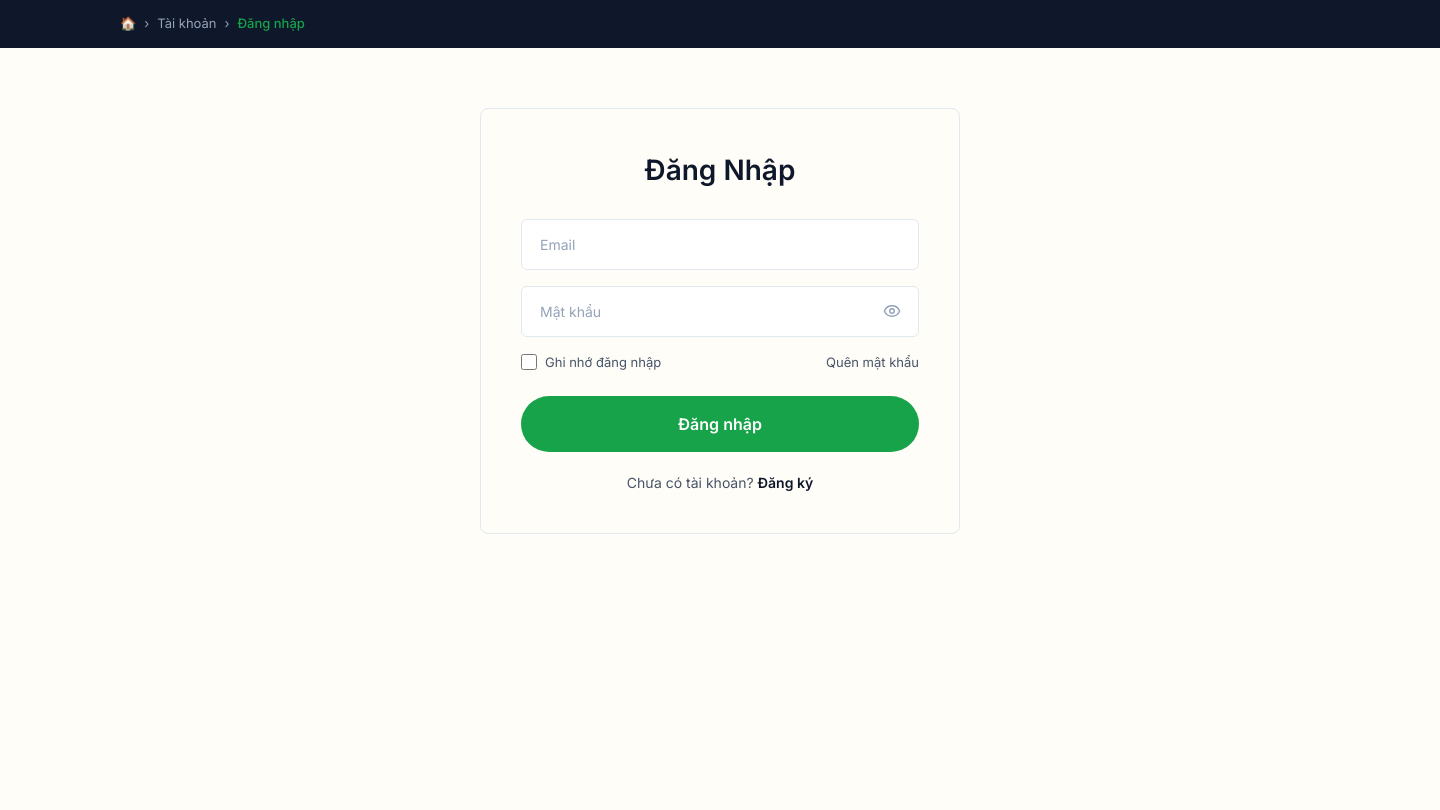
Login - error state (isError) › falls back to "Login failed" when the error has no message
This screenshot has width=1440, height=810.
Type "a@b.com" into the field with placeholder "Email" at (720, 244), box [521, 218, 919, 270]
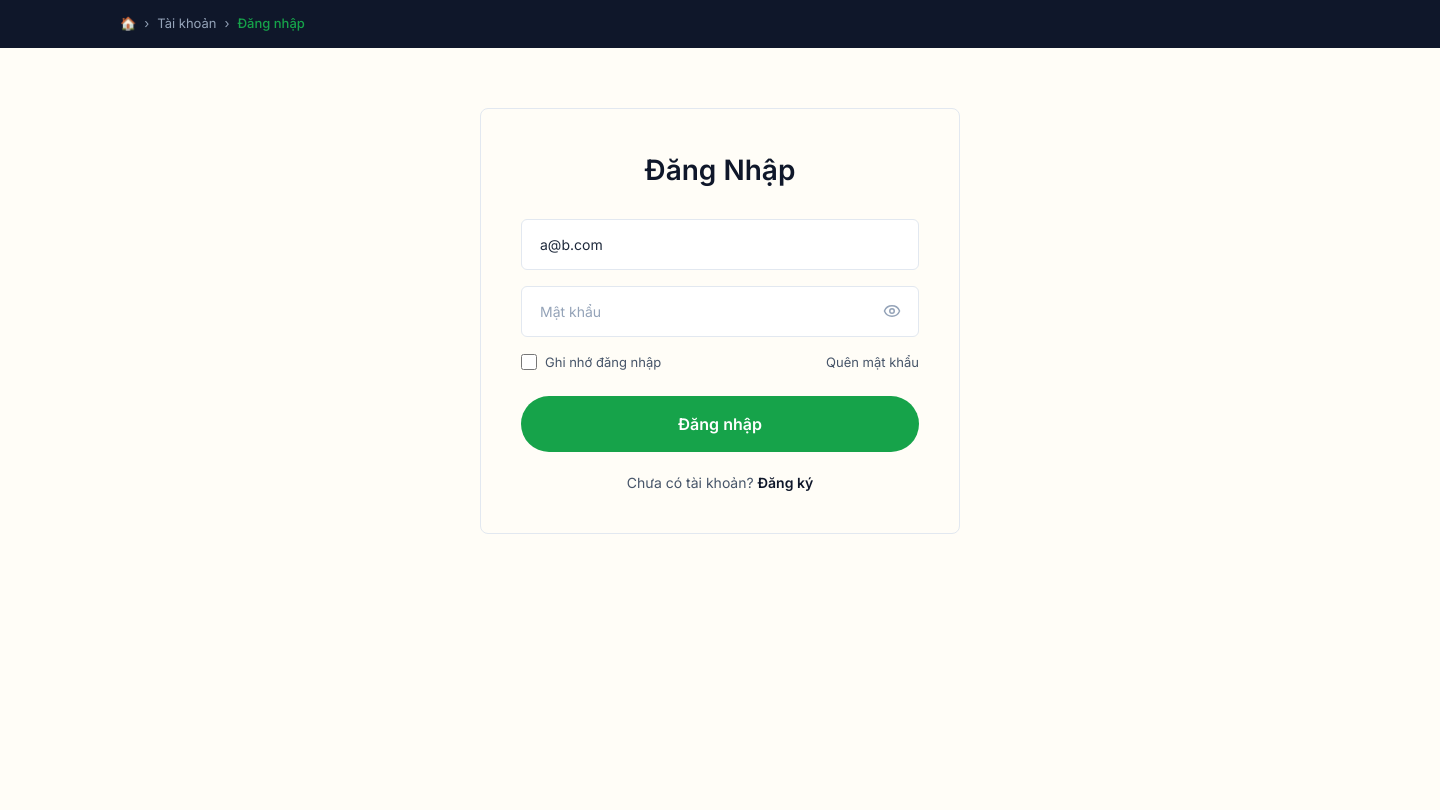
Type "pw" into the password field with placeholder "Mật khẩu" at (720, 311), box [521, 286, 919, 336]
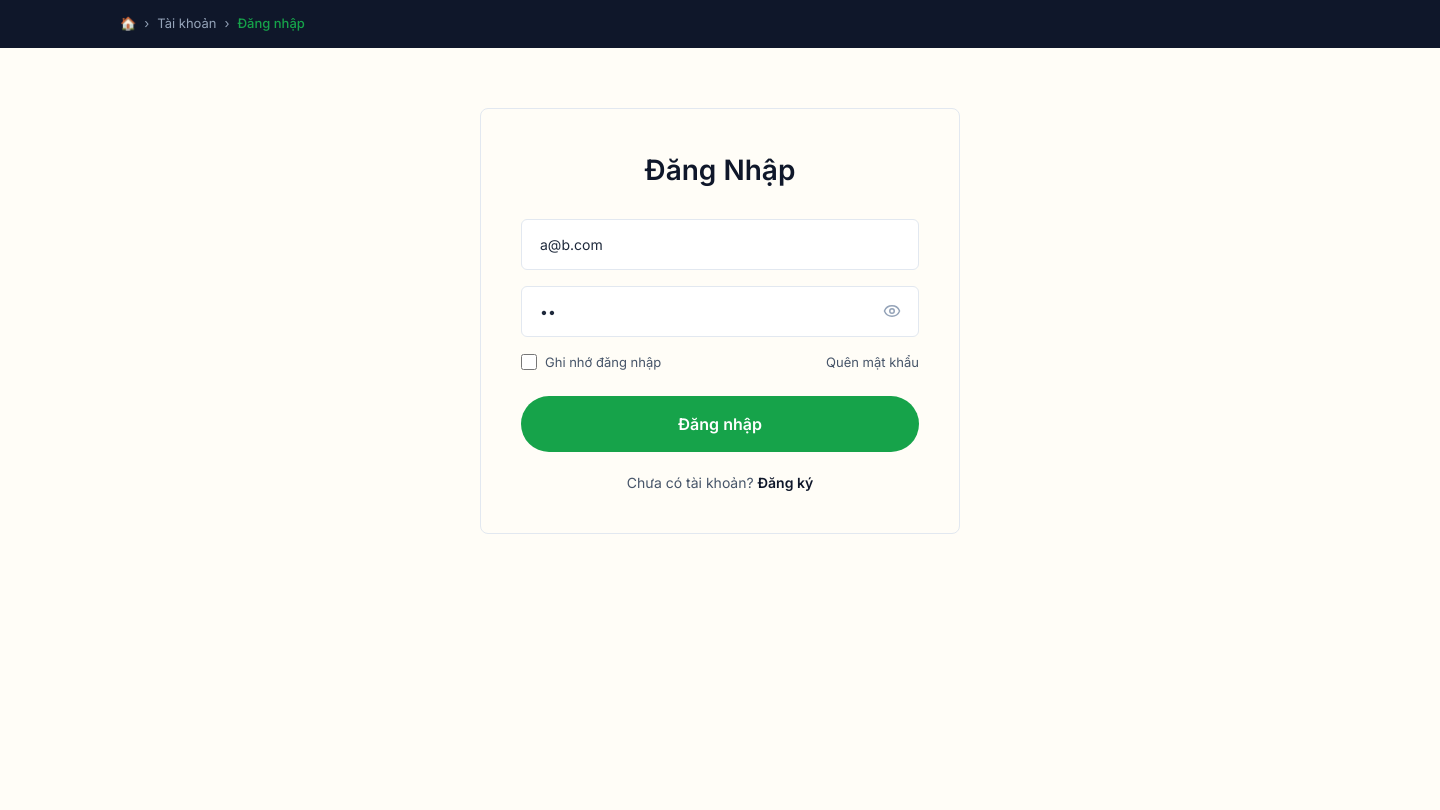
Click the button "Đăng nhập" at (720, 424), box [521, 396, 919, 452]
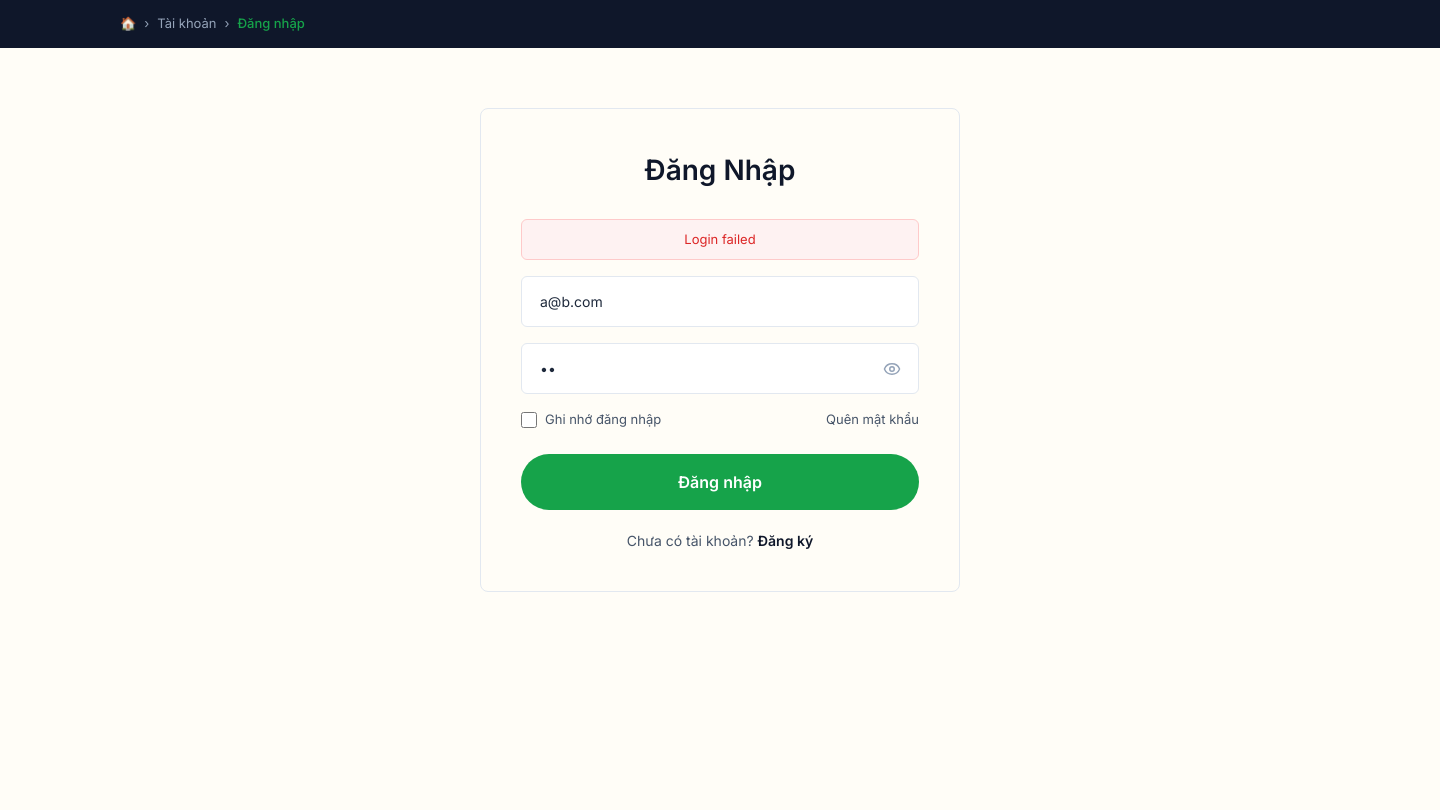
Expected: the text "Login failed" is shown, [521, 218, 919, 260]
